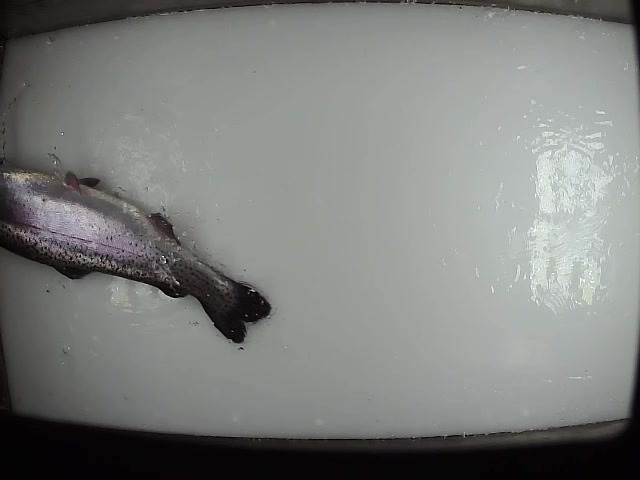fish: (1, 168, 277, 347)
